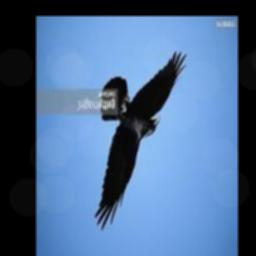Crow: (95, 50, 187, 233)
